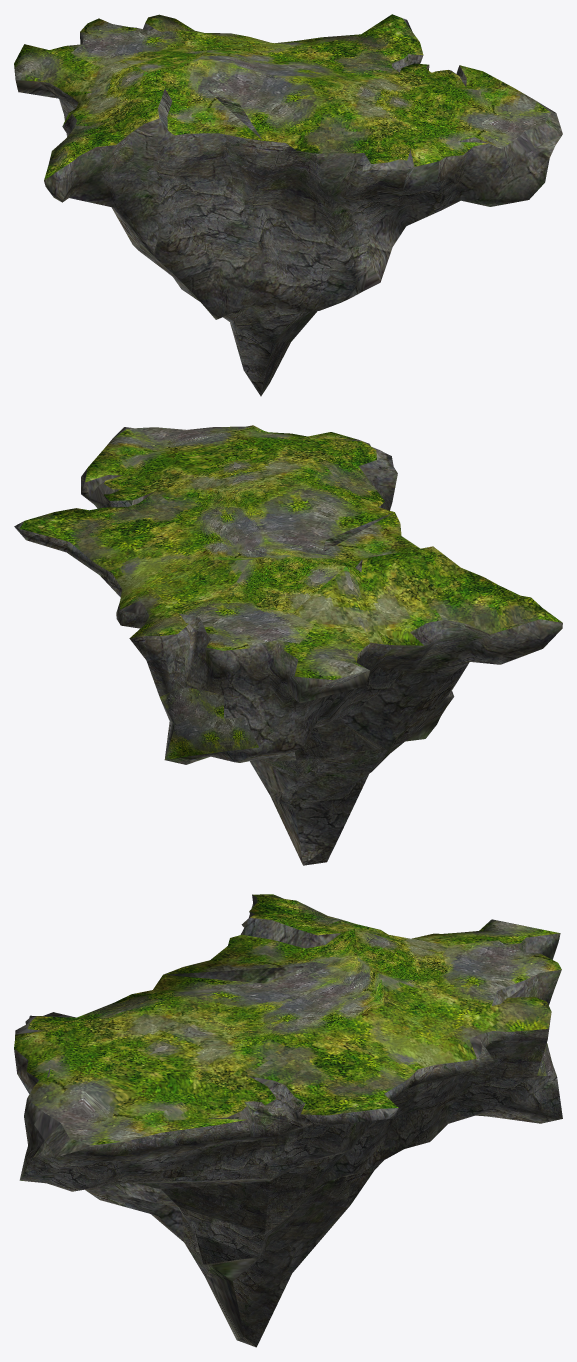
Rendered from S_Rock_Green008.FBX.
3 views of the same model, one above another, from view 1: azimuth 30°, elevation 25°; view 2: azimuth 150°, elevation 25°; view 3: azimuth 270°, elevation 25° (orthographic). The views are drawn at different scales.
Visible parts, largest first — view 1: S_Rock_Green008; view 2: S_Rock_Green008; view 3: S_Rock_Green008.
Boxes of the visible parts, x1,y1,x2,y2 form: S_Rock_Green008: (14,14,562,396); S_Rock_Green008: (14,425,562,865); S_Rock_Green008: (14,894,562,1347).
Bounding box in the file's own units: 2880 × 2518 × 1887.
